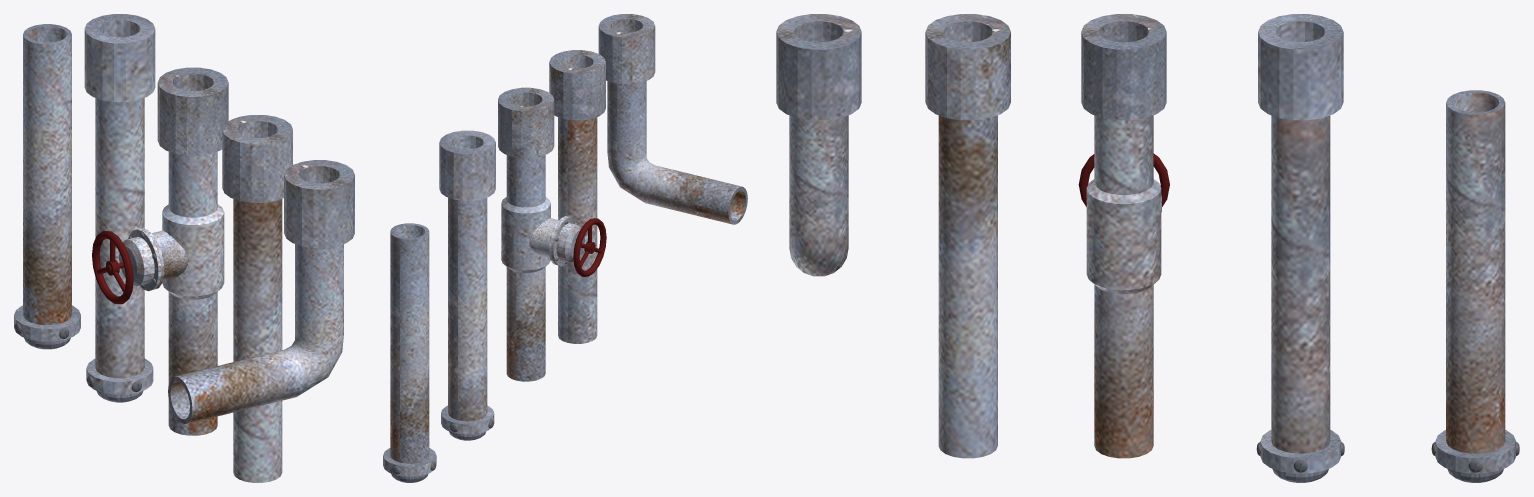
The model's file is pipe_usami.fbx.
The picture shows the model from 3 angles, left to right: view 1: azimuth 30°, elevation 25°; view 2: azimuth 150°, elevation 25°; view 3: azimuth 270°, elevation 25°; orthographic projection. The views are drawn at different scales.
Parts seen in each view (by area): view 1: Tube006, Cylinder009, Tube008, Tube001, Tube011, Tube007; view 2: Tube006, Cylinder009, Tube008, Tube001, Tube011, Tube007; view 3: Cylinder009, Tube006, Tube001, Tube011, Tube008, Tube007.
Boxes of the visible parts, x1=… form: Tube006: x1=119, y1=67, x2=228, y2=435; Cylinder009: x1=84, y1=14, x2=155, y2=402; Tube008: x1=168, y1=160, x2=354, y2=423; Tube001: x1=222, y1=115, x2=292, y2=482; Tube011: x1=14, y1=24, x2=80, y2=349; Tube007: x1=92, y1=231, x2=133, y2=304; Tube006: x1=498, y1=87, x2=584, y2=381; Cylinder009: x1=439, y1=130, x2=495, y2=440; Tube008: x1=598, y1=14, x2=747, y2=224; Tube001: x1=549, y1=50, x2=605, y2=343; Tube011: x1=383, y1=223, x2=436, y2=482; Tube007: x1=573, y1=218, x2=606, y2=276; Cylinder009: x1=1256, y1=14, x2=1344, y2=482; Tube006: x1=1081, y1=14, x2=1166, y2=458; Tube001: x1=925, y1=14, x2=1010, y2=458; Tube011: x1=1431, y1=90, x2=1519, y2=482; Tube008: x1=776, y1=14, x2=861, y2=276; Tube007: x1=1078, y1=153, x2=1169, y2=206.
Size of the model in its own units: 20.11 by 41.6 by 62.78.
Materials: 4 (3 with a texture image).
